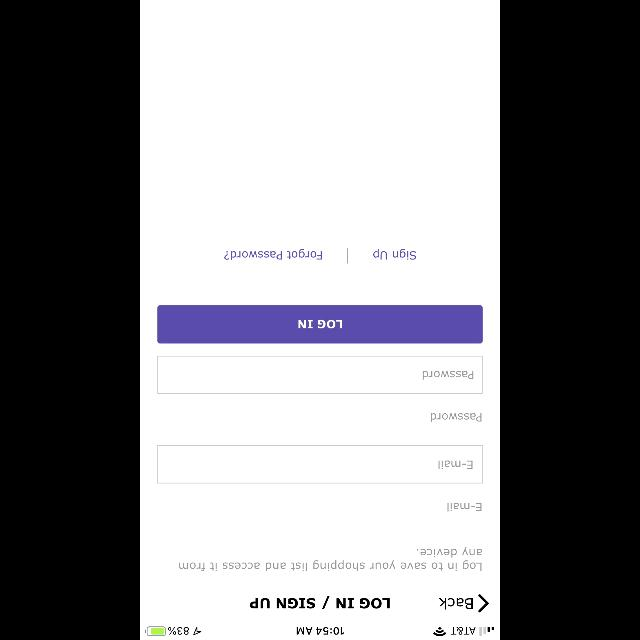icon: (478, 594, 488, 612)
input: (158, 355, 482, 393), (158, 445, 482, 483)
text: (180, 547, 482, 571), (250, 596, 390, 608), (225, 248, 322, 260), (373, 248, 415, 260), (422, 371, 473, 379), (431, 413, 482, 421), (440, 598, 472, 608), (438, 460, 472, 468), (447, 503, 481, 511)
textbutton: (158, 305, 482, 343)
uppertaskbar: (140, 626, 500, 640)
